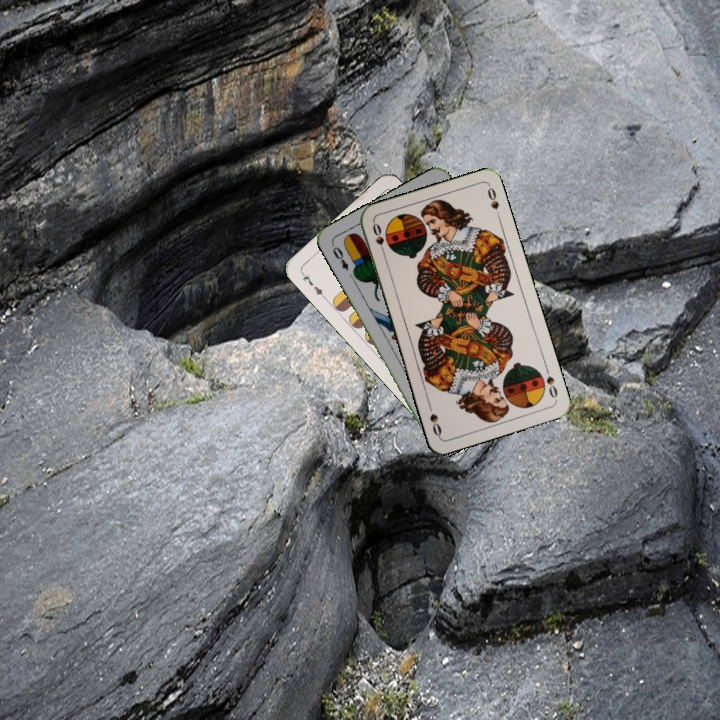E7: (297, 268, 328, 302)
EO: (328, 240, 351, 273)
SO: (369, 219, 388, 258), (541, 362, 560, 401)
